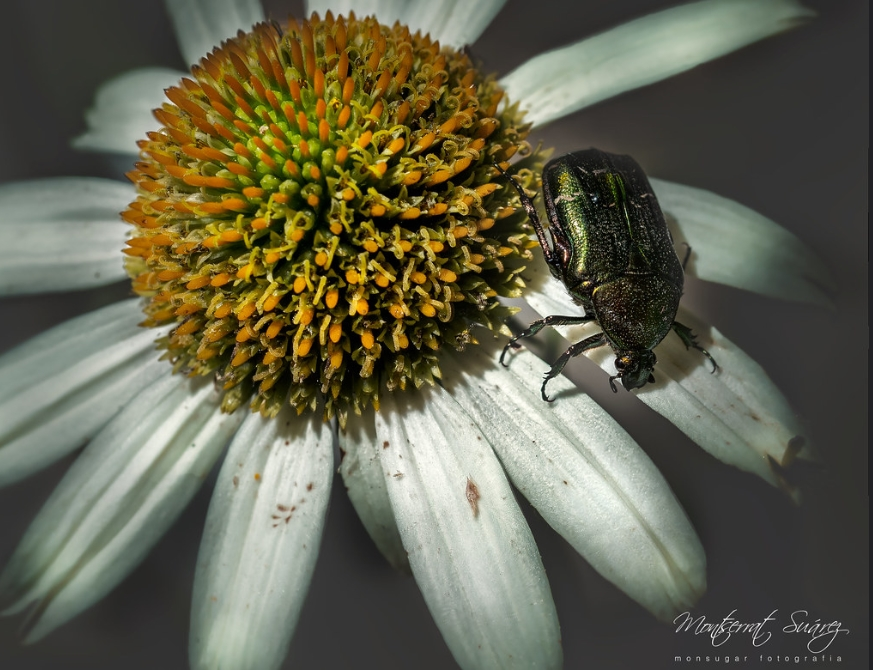Cetonia_aurata: (503, 148, 726, 405)
